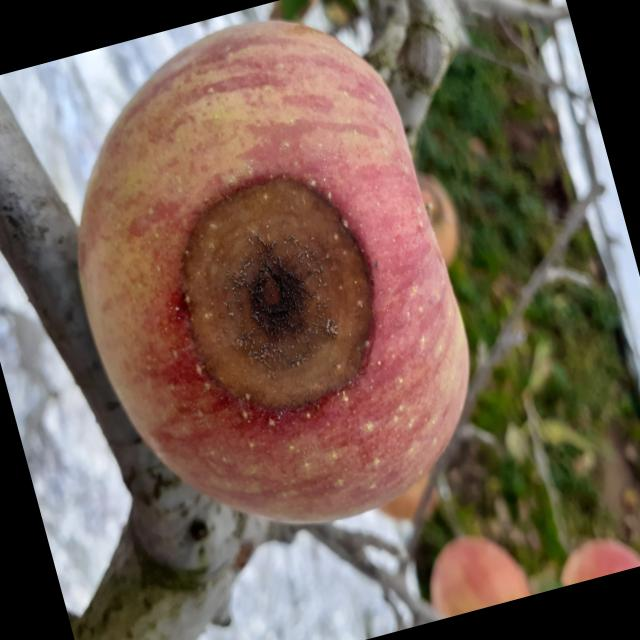rotten: (17, 1, 516, 579)
